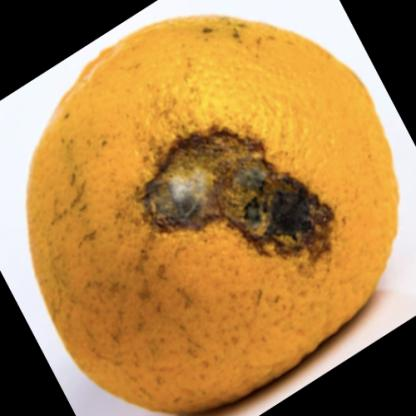rotten: (28, 18, 400, 416)
